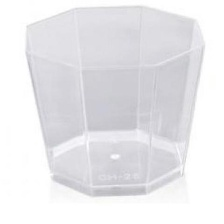glass: (19, 1, 209, 202)
